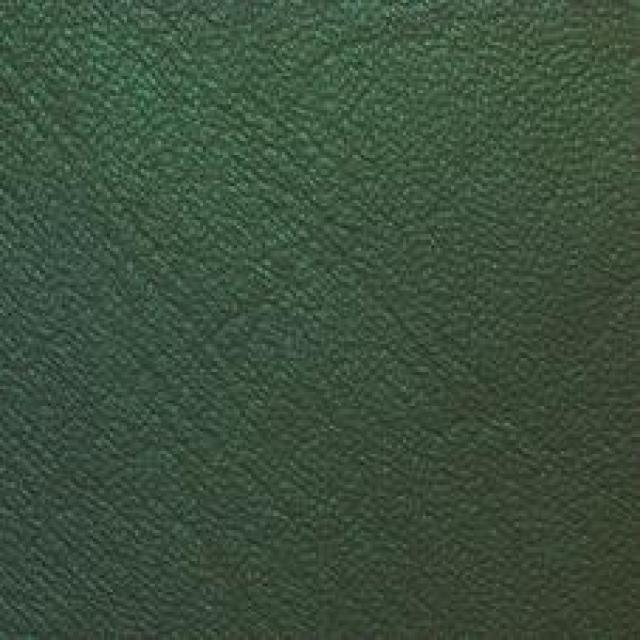Growth Marks: (150, 333, 361, 609), (25, 105, 169, 288)
